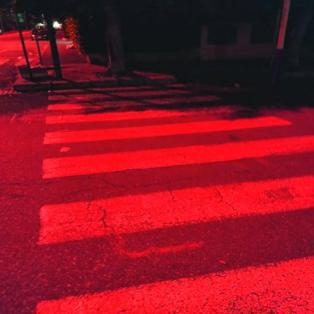Paso de Cebra: (32, 108, 313, 190)
